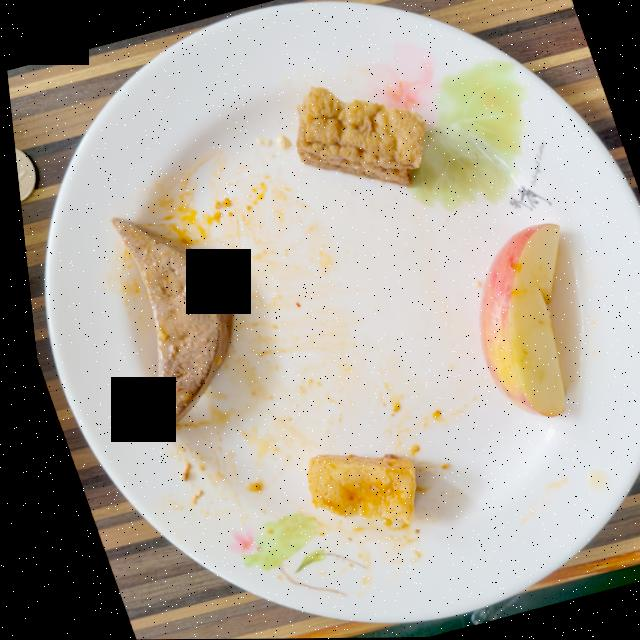apple -sliced-: (472, 224, 556, 417)
coin: (12, 148, 31, 201)
creamy tofu: (296, 454, 405, 524)
egg tofu: (293, 87, 423, 187)
pig liver: (106, 217, 226, 434)
